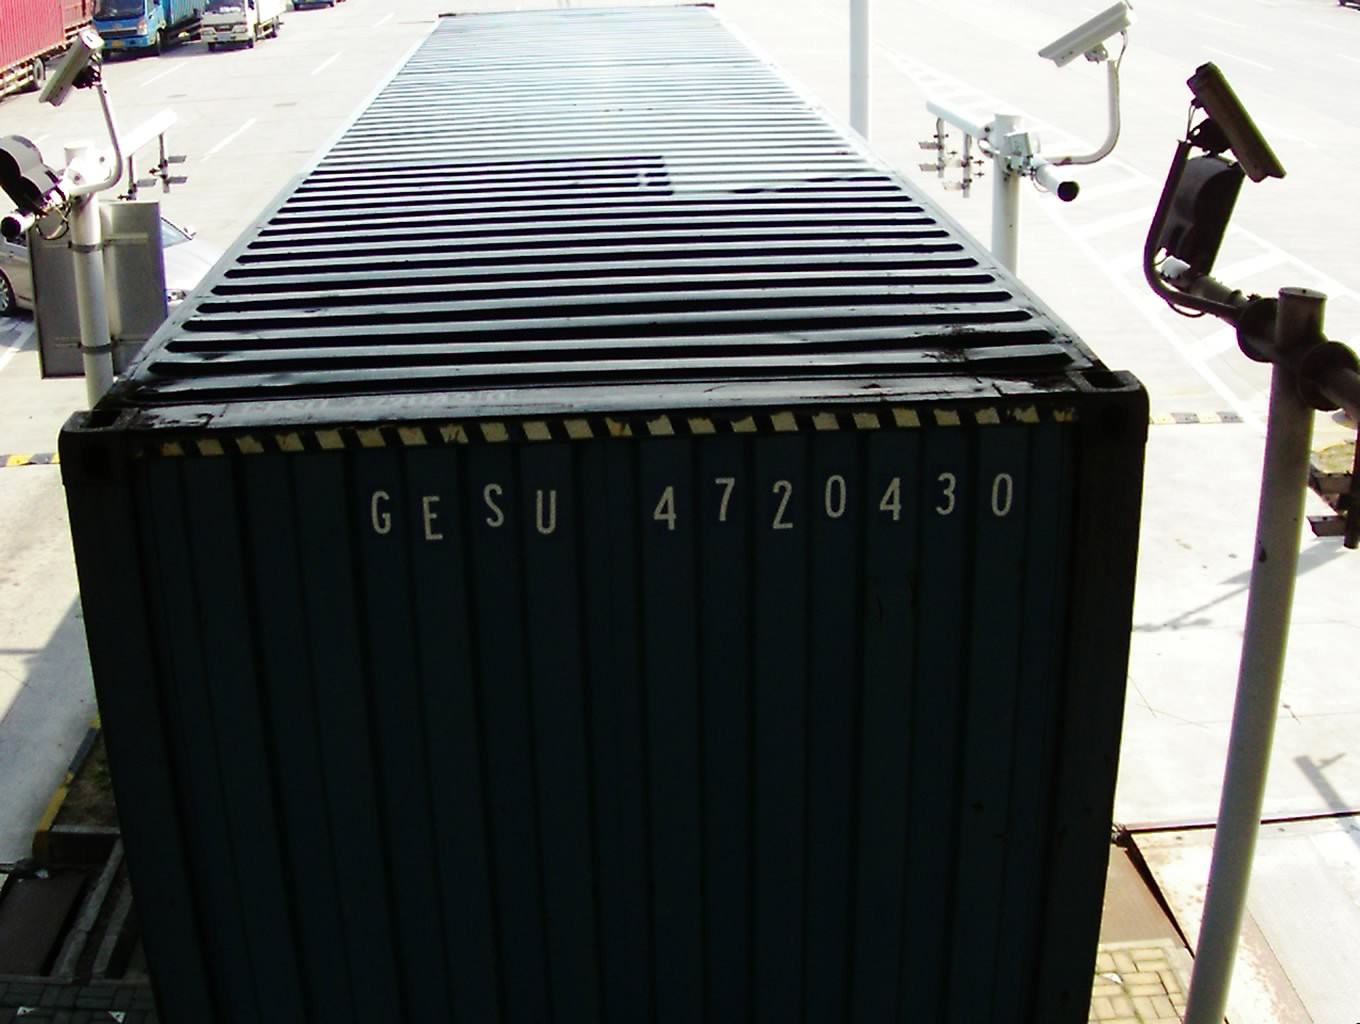words: (354, 469, 1019, 541)
